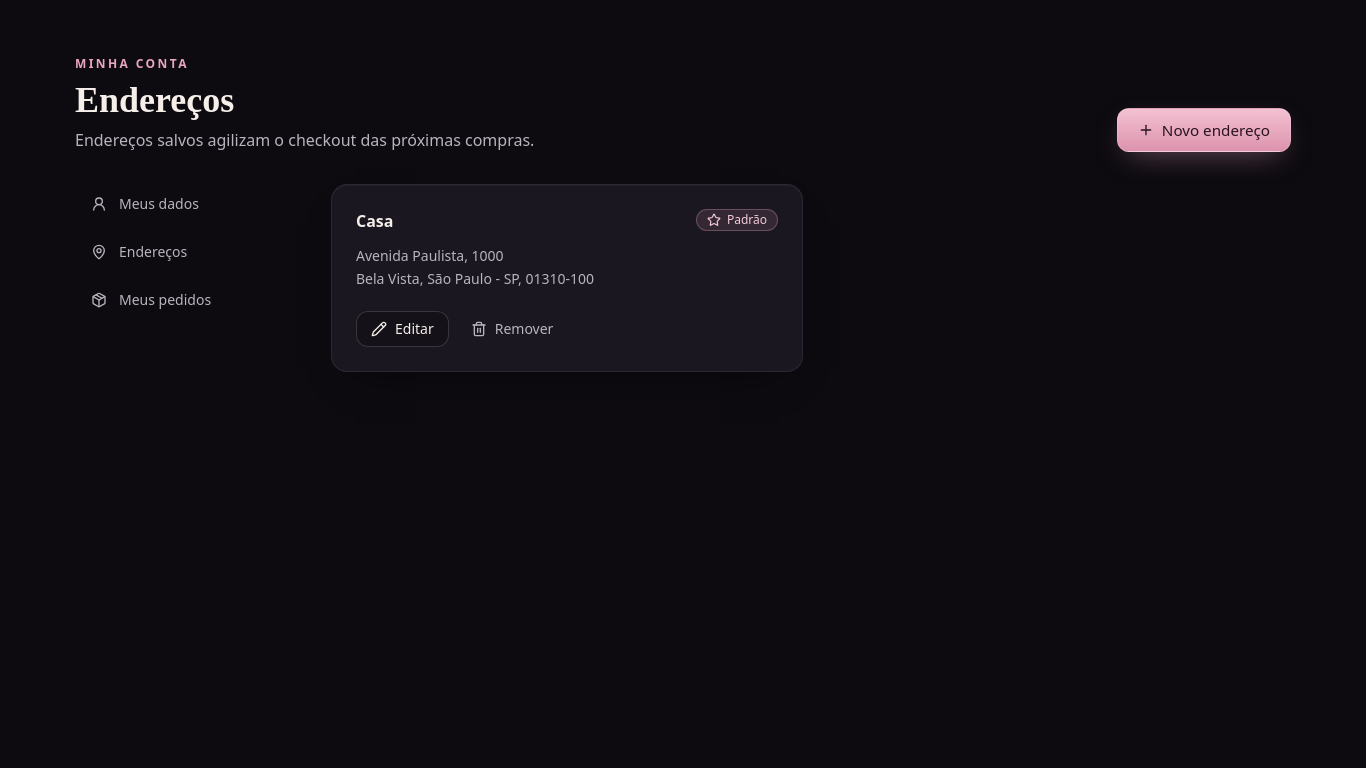
Scenario: AddressesPage › lista, cadastra e remove endereços
Expected: the heading "Casa" is shown, [356,209,394,233]
Expected: the text "Padrão" is shown, [696,209,778,231]
Click the button "Novo endereço": (1204, 130) [1117,108,1291,152]
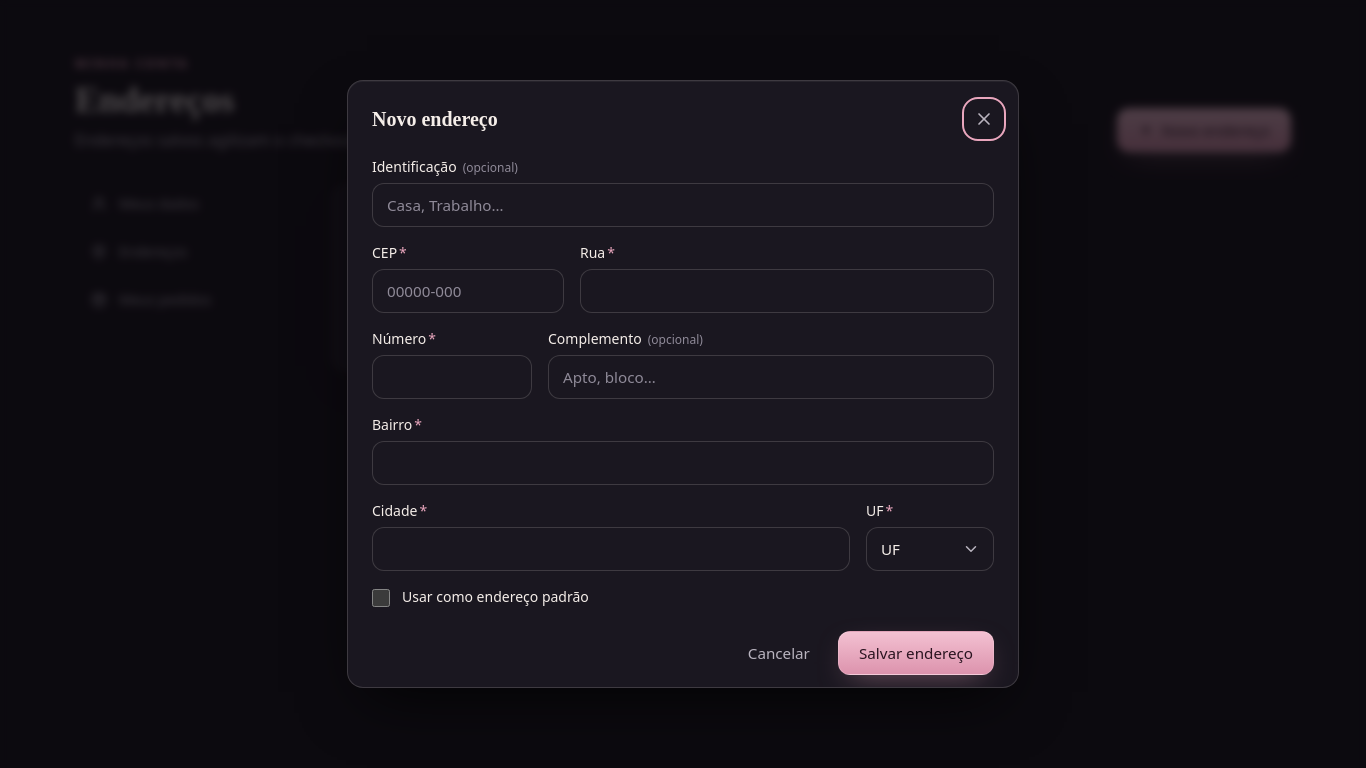
In the field labelled "Identificação(opcional)": (683, 205) [372,183,994,227], type "Trabalho"
In the field labelled "CEP*": (468, 291) [372,269,564,313], type "01310100"
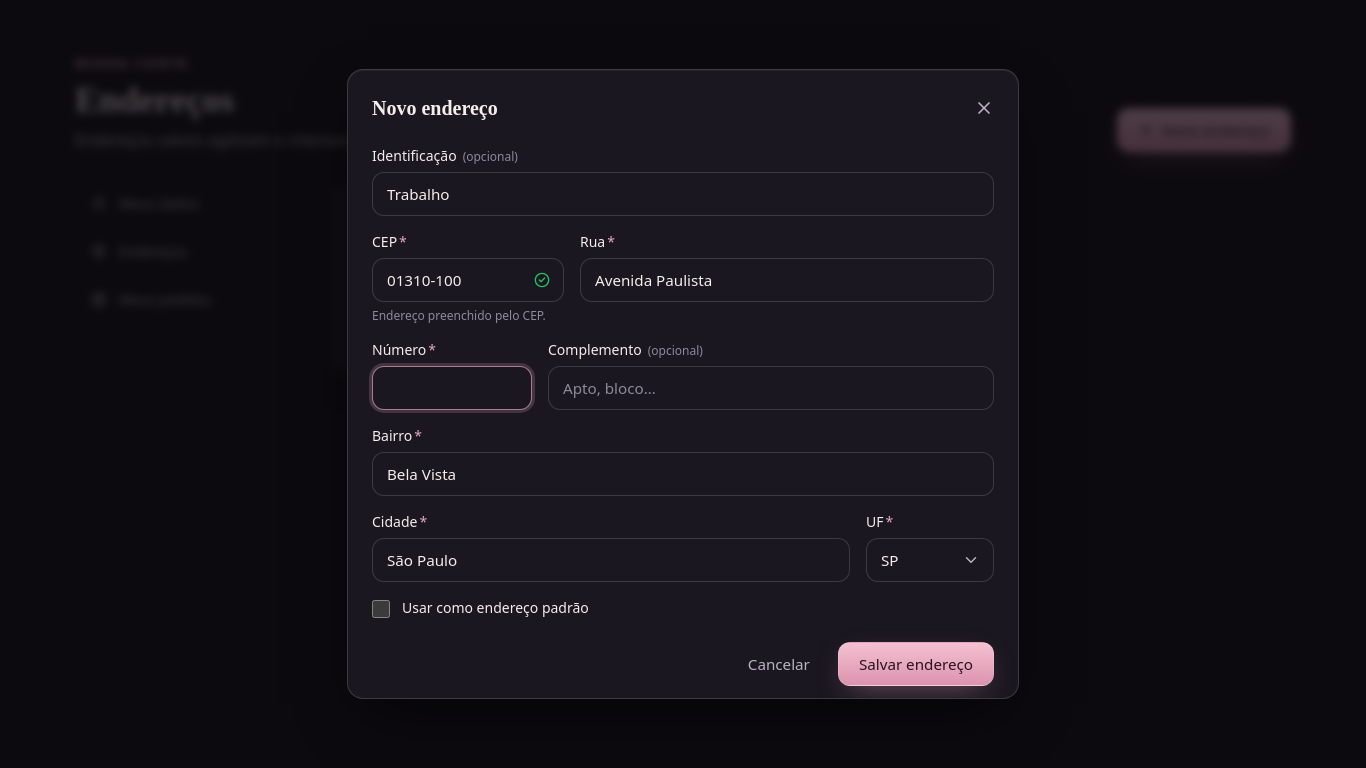
Now the field labelled "Rua*" holds "Avenida Paulista", box [580,258,994,302]
In the field labelled "Número*": (452, 388) [372,366,532,410], type "200"
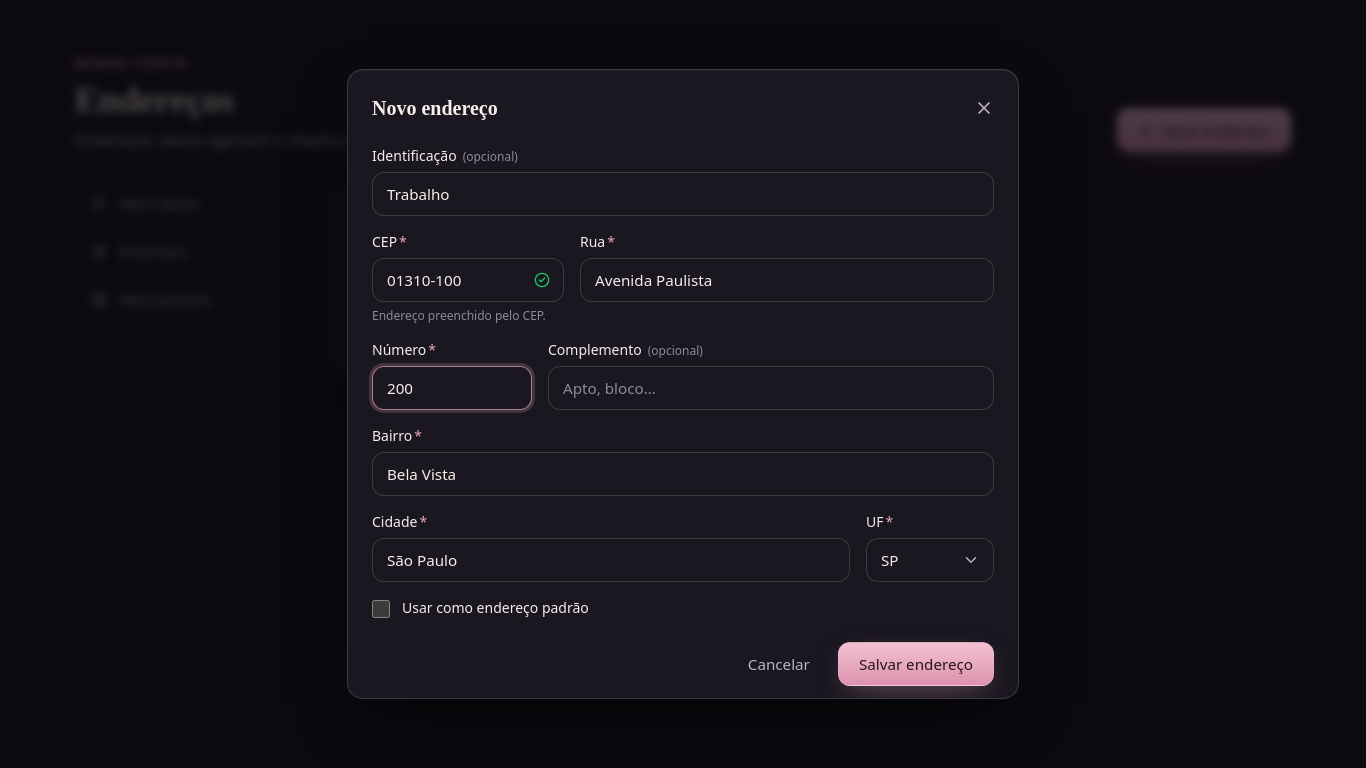
Click the button "Salvar endereço": (916, 664) [838,642,994,686]
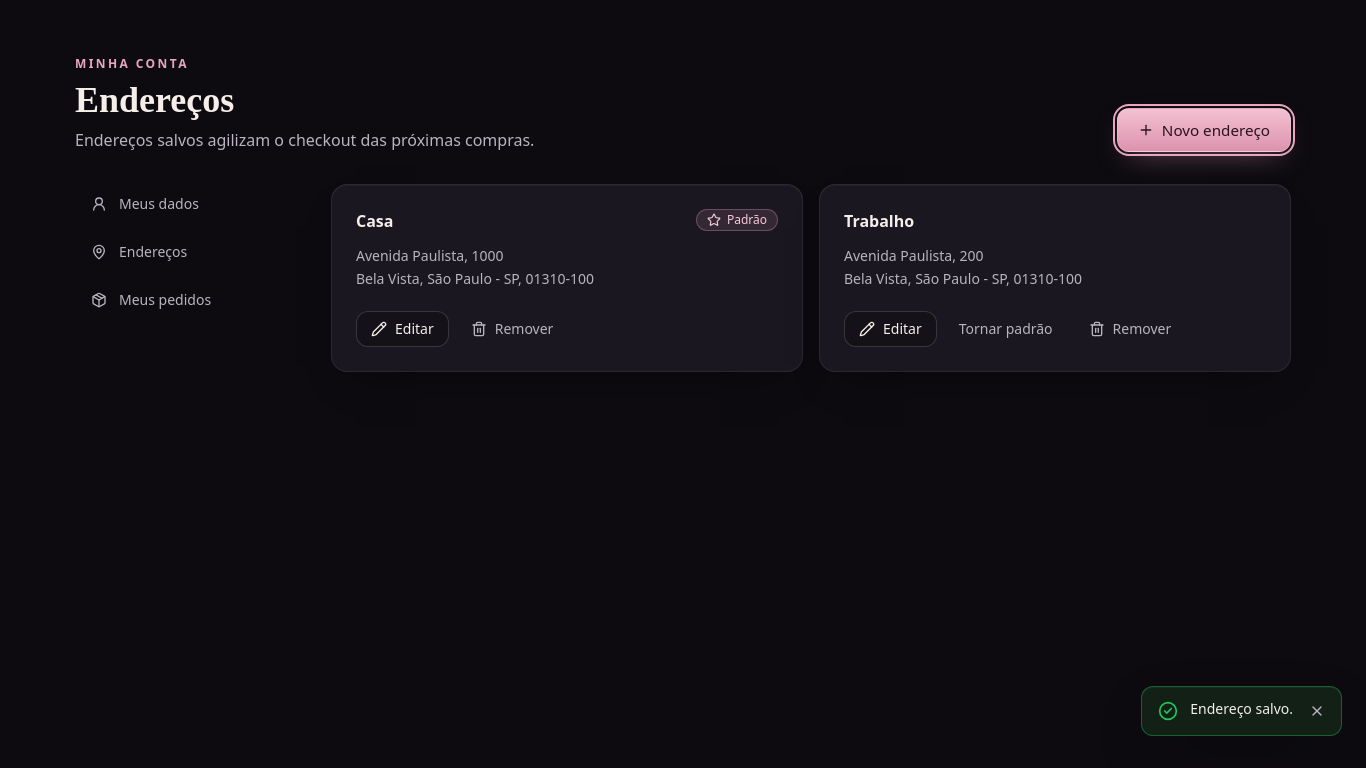
Now the heading "Trabalho" is shown, box [844,209,914,233]
Click the button with aria-label "Remover endereço Trabalho": (1130, 328) [1075,310,1185,346]
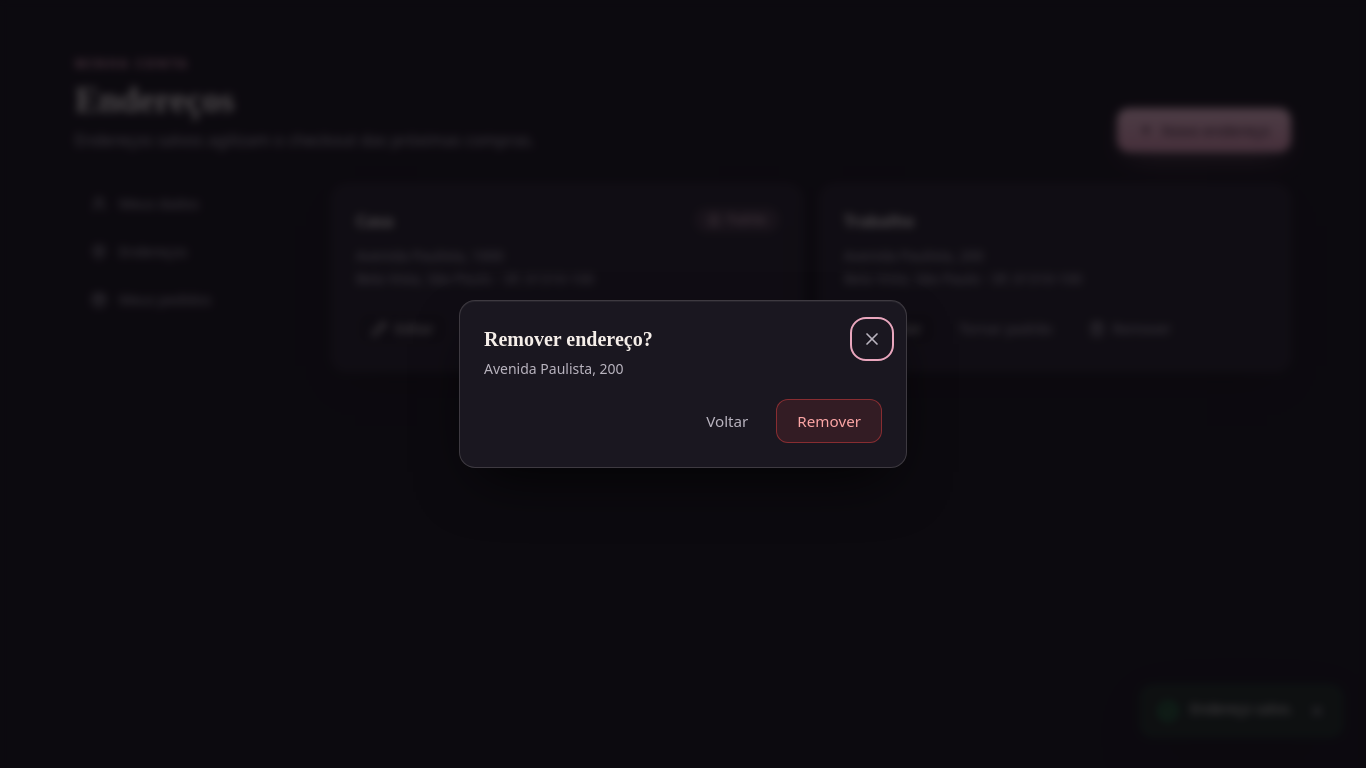
Click the button "Remover": (829, 421) [776,399,882,443]
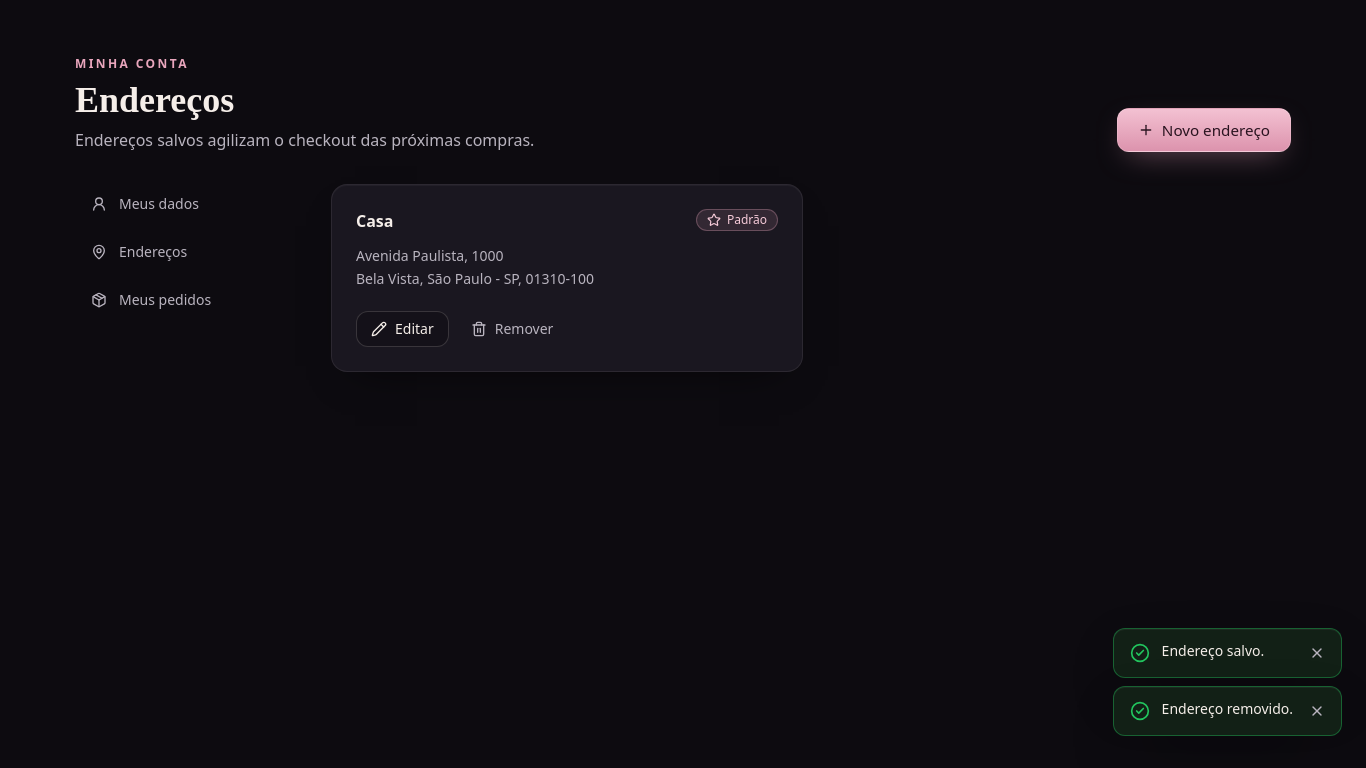
Now the heading "Trabalho" is gone
